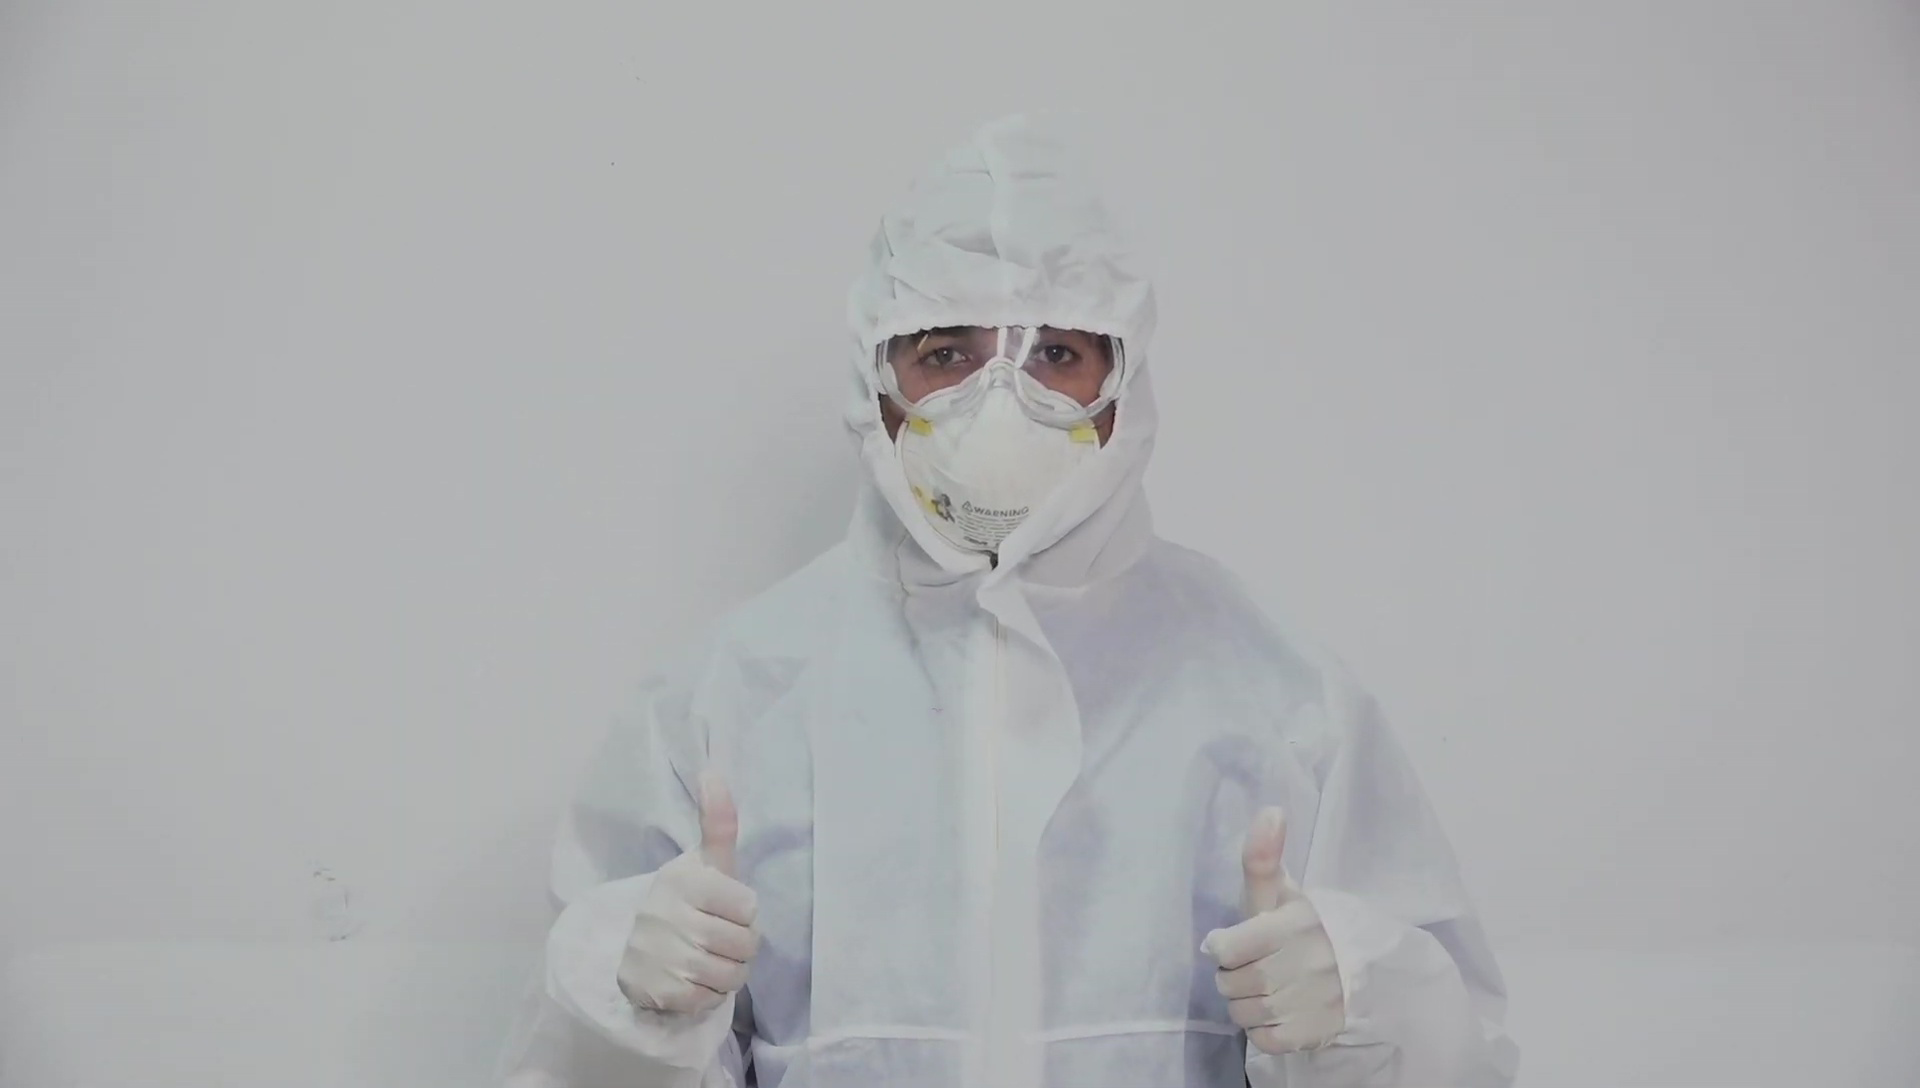Coverall: (493, 114, 1519, 1086)
Gloves: (615, 772, 762, 1019), (1202, 805, 1348, 1055)
Goggles: (876, 318, 1129, 433)
with_mask: (892, 351, 1112, 566)
